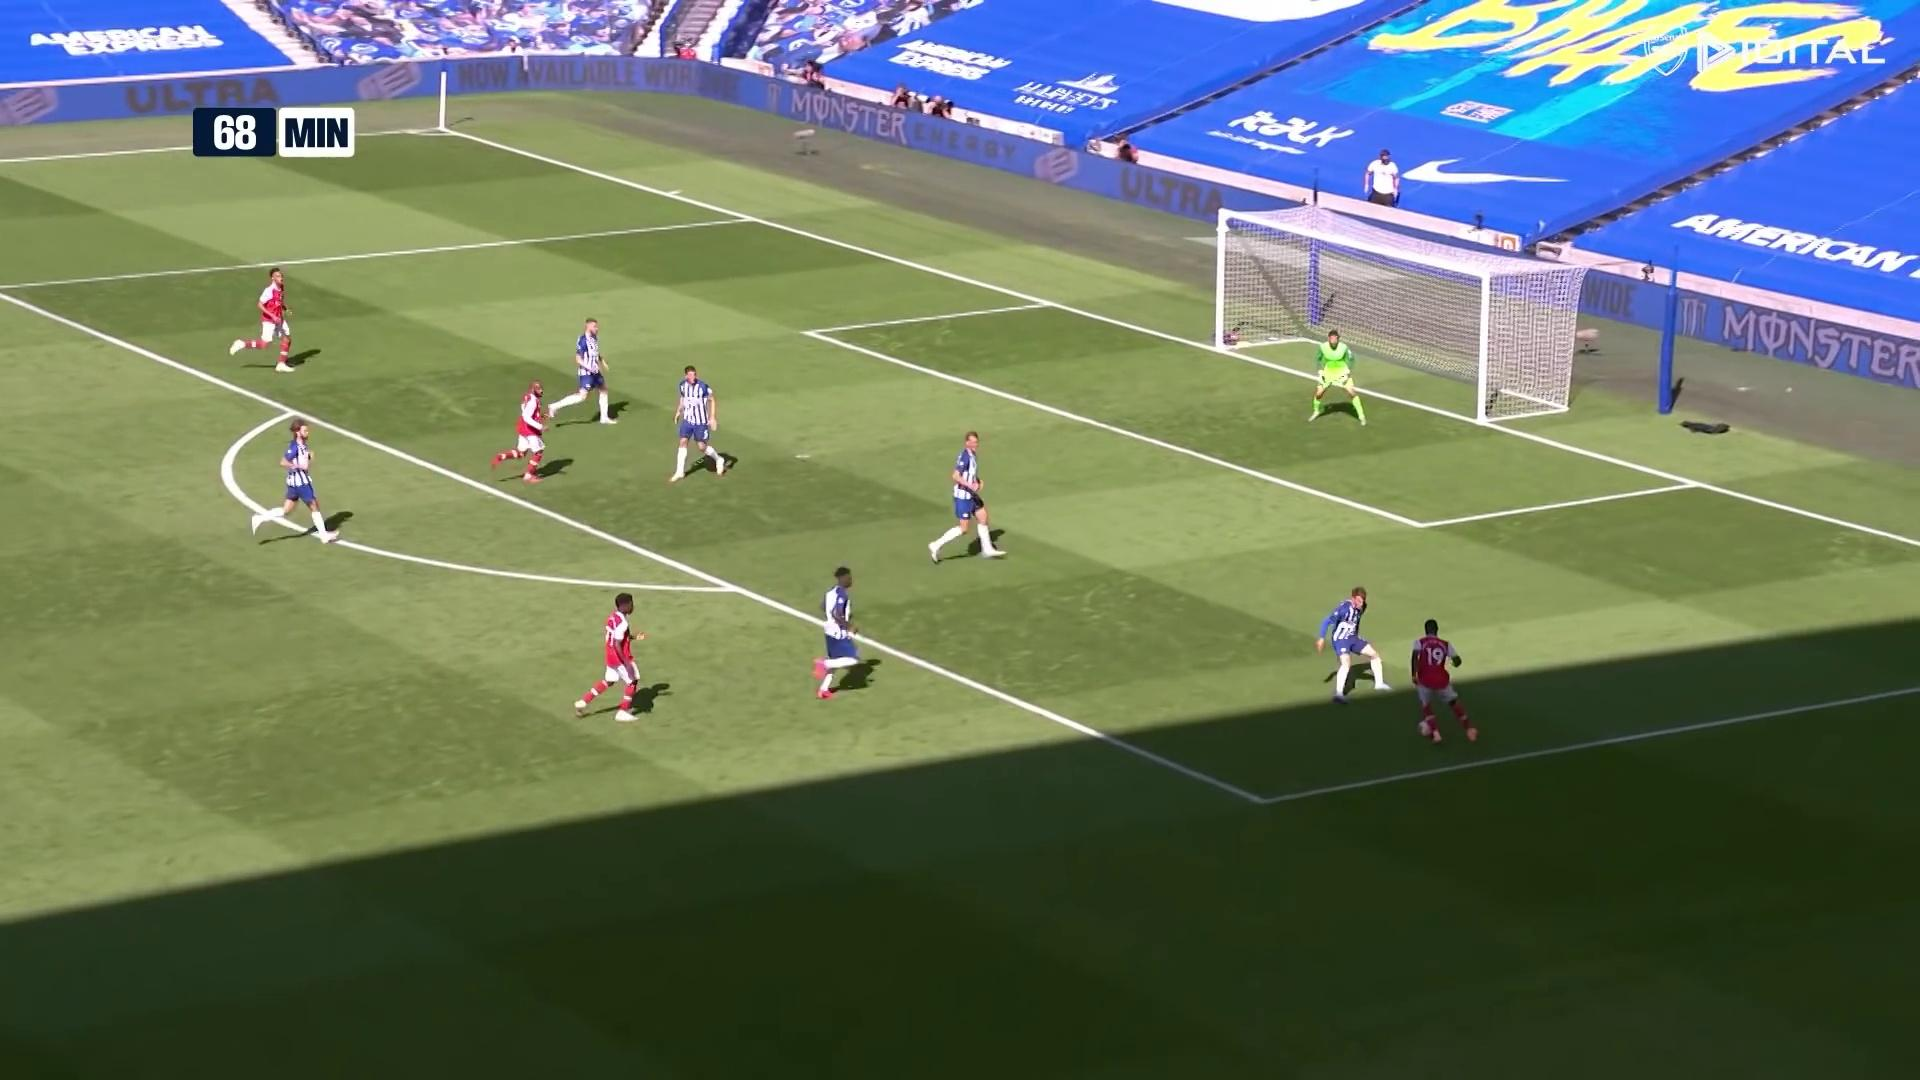ball: (1416, 717, 1436, 739)
goalkeeper: (1305, 329, 1371, 428)
player: (251, 414, 342, 547), (928, 428, 1009, 564), (571, 588, 650, 724), (1404, 616, 1479, 747), (1314, 584, 1393, 705), (810, 566, 873, 703), (666, 361, 733, 486), (552, 315, 623, 429), (228, 268, 297, 375), (494, 379, 554, 486)
